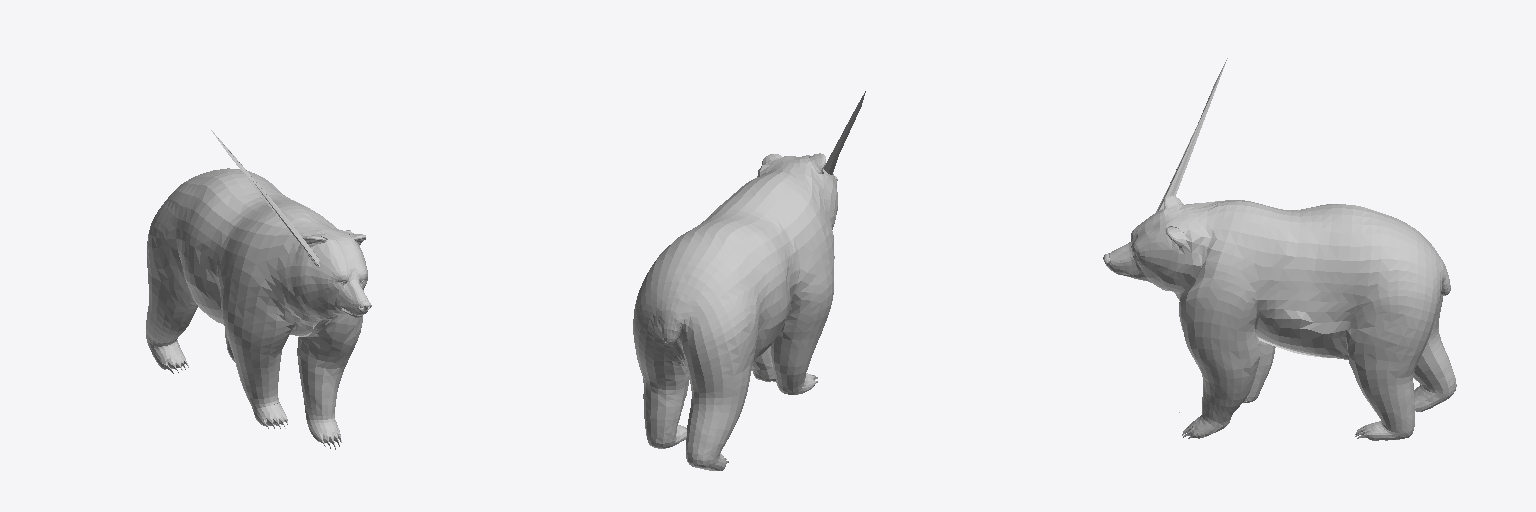
File: Bear0112.obj
3 views of the same model, side by side, from view 1: azimuth 30°, elevation 25°; view 2: azimuth 150°, elevation 25°; view 3: azimuth 270°, elevation 25° (orthographic).
Visible parts, largest first — view 1: Object_237; view 2: Object_237; view 3: Object_237.
Part boxes in pixels (x1,y1,x2,y2): Object_237: (146, 130, 371, 449); Object_237: (633, 91, 865, 470); Object_237: (1103, 58, 1456, 440).
Size of the model in its own units: 2.34 by 5.08 by 4.92.